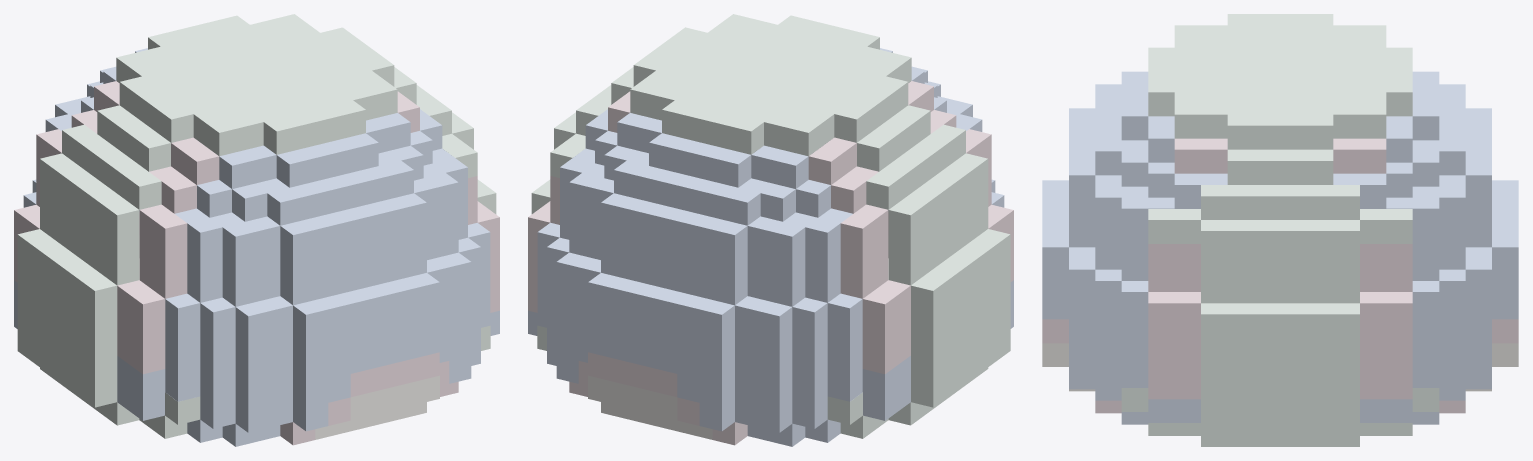
Rendered from 210_form_phasma.glb.
3 views of the same model, side by side, from view 1: azimuth 30°, elevation 25°; view 2: azimuth 150°, elevation 25°; view 3: azimuth 270°, elevation 25° (orthographic). The views are drawn at different scales.
Bounding box in the file's own units: 18 × 12 × 18.
